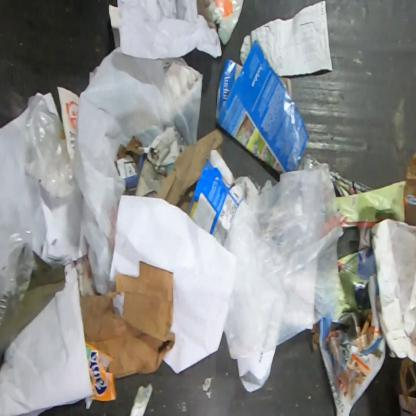cardboard: (186, 148, 244, 246), (26, 92, 76, 198), (115, 134, 144, 190)
rigid_plastic: (0, 228, 38, 356)
soft_plastic: (74, 45, 203, 296), (222, 162, 347, 362), (116, 0, 222, 60), (84, 342, 118, 402), (206, 0, 244, 45)
